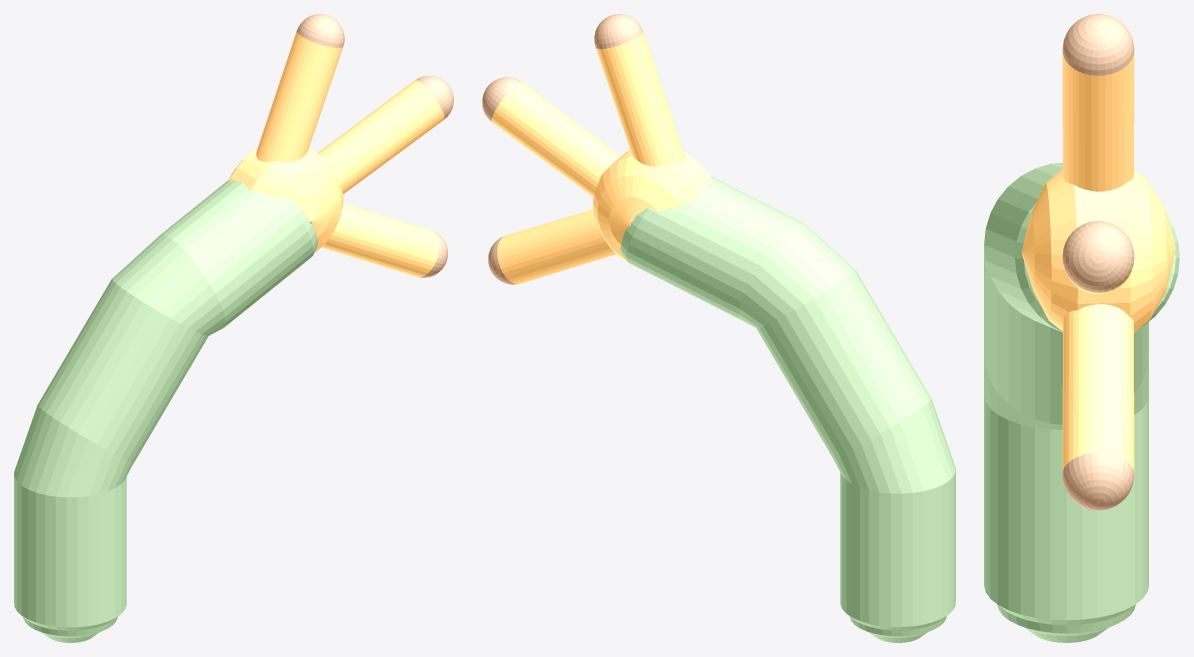
File: frogleg.fbx
3 views of the same model, side by side, from view 1: azimuth 30°, elevation 25°; view 2: azimuth 150°, elevation 25°; view 3: azimuth 270°, elevation 25° (orthographic). The views are drawn at different scales.
Parts seen in each view (by area): view 1: Cylinder, Cylinder.001, Cylinder.002; view 2: Cylinder, Cylinder.001, Cylinder.002; view 3: Cylinder, Cylinder.001, Cylinder.002.
Boxes of the visible parts, box(x1,y1,x2,y2) form: Cylinder: box(14, 179, 317, 642); Cylinder.001: box(256, 14, 453, 277); Cylinder.002: box(229, 147, 343, 253); Cylinder: box(620, 176, 955, 642); Cylinder.001: box(482, 14, 684, 284); Cylinder.002: box(593, 150, 712, 268); Cylinder: box(984, 162, 1179, 642); Cylinder.001: box(1062, 14, 1134, 510); Cylinder.002: box(1021, 169, 1175, 332).
Size of the model in its own units: 451 by 541 by 119.
